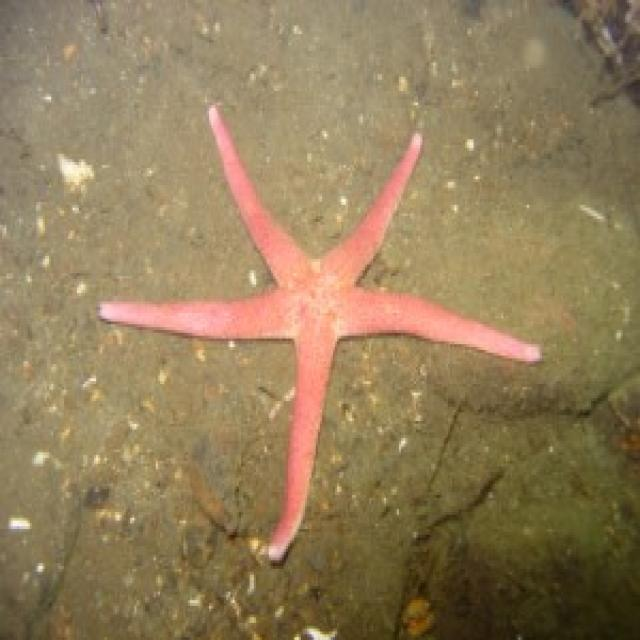Starfish: (96, 88, 562, 558)
